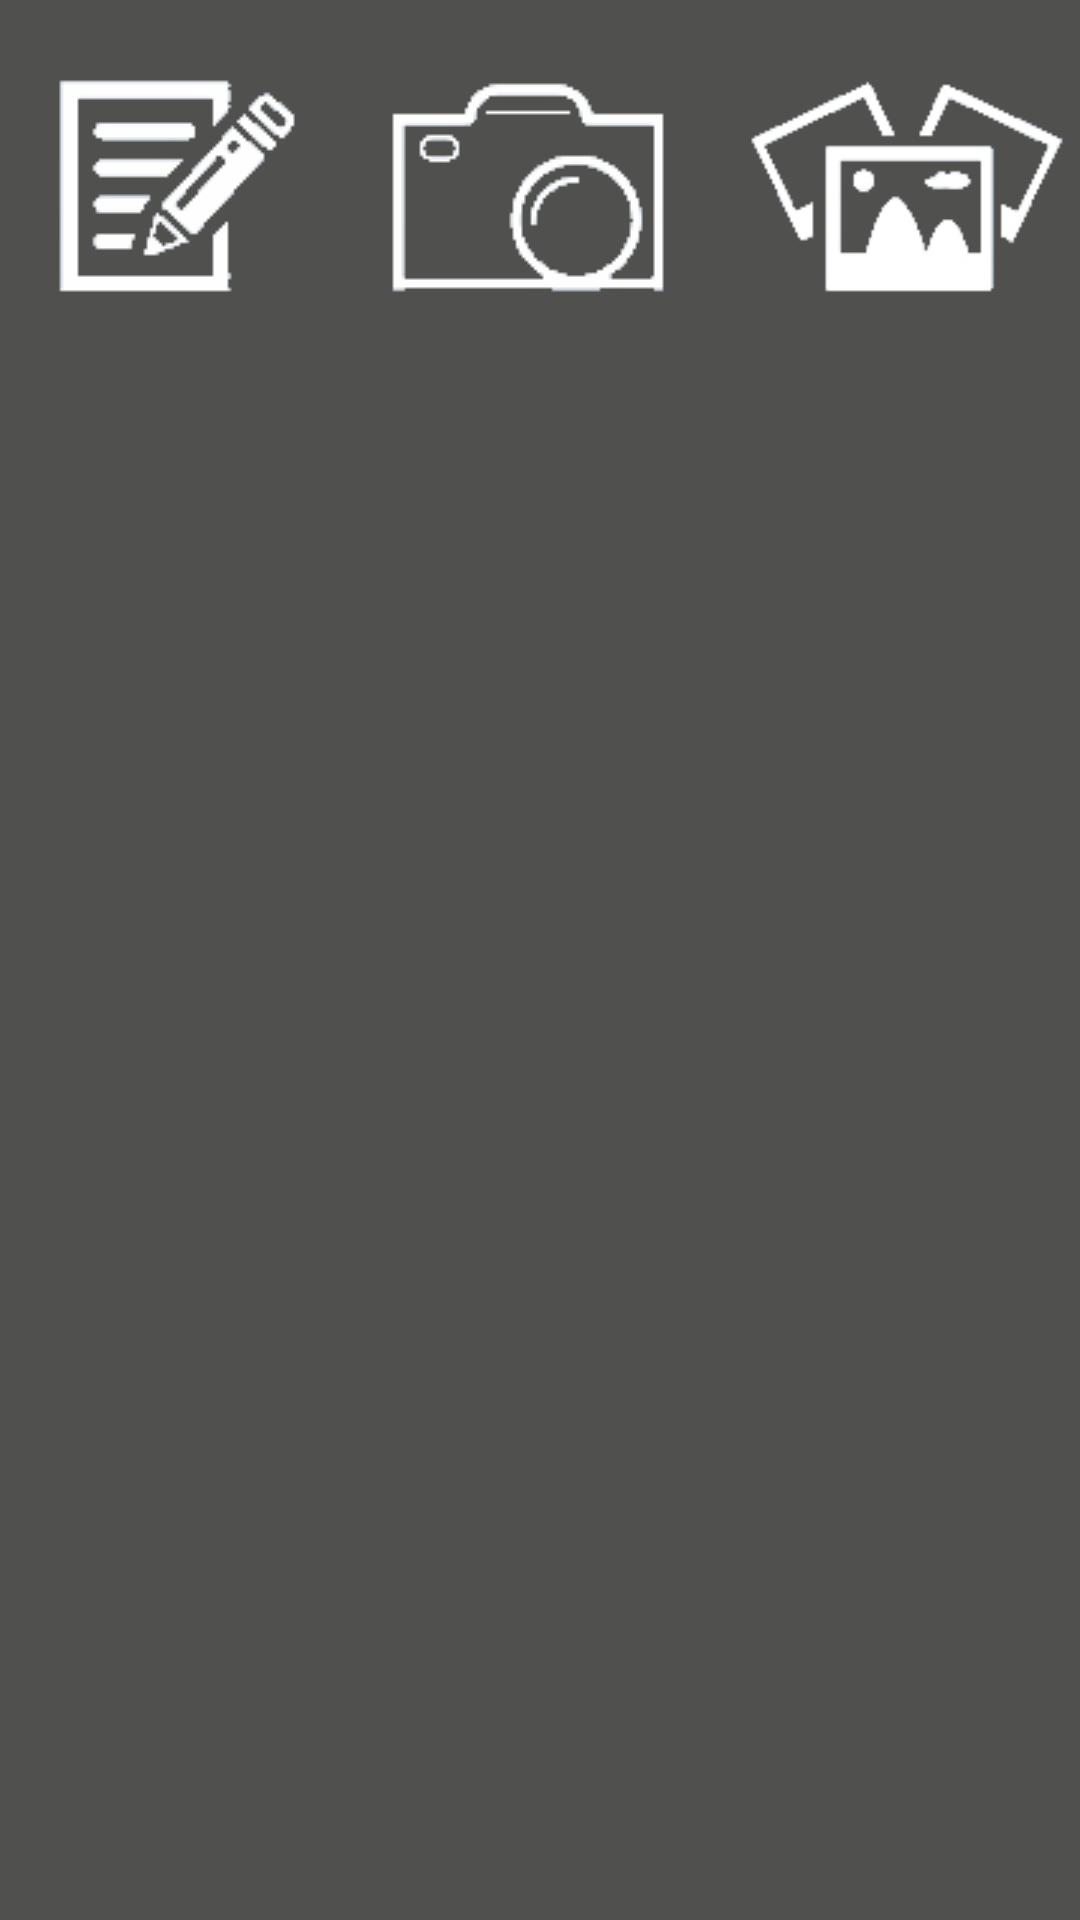

Screen size 1080*1920. Icon name, then its box in pixels as (x1, y1, x2, y2):
camera: (392, 83, 664, 292)
gallery: (751, 82, 1063, 292)
write: (59, 80, 295, 292)
